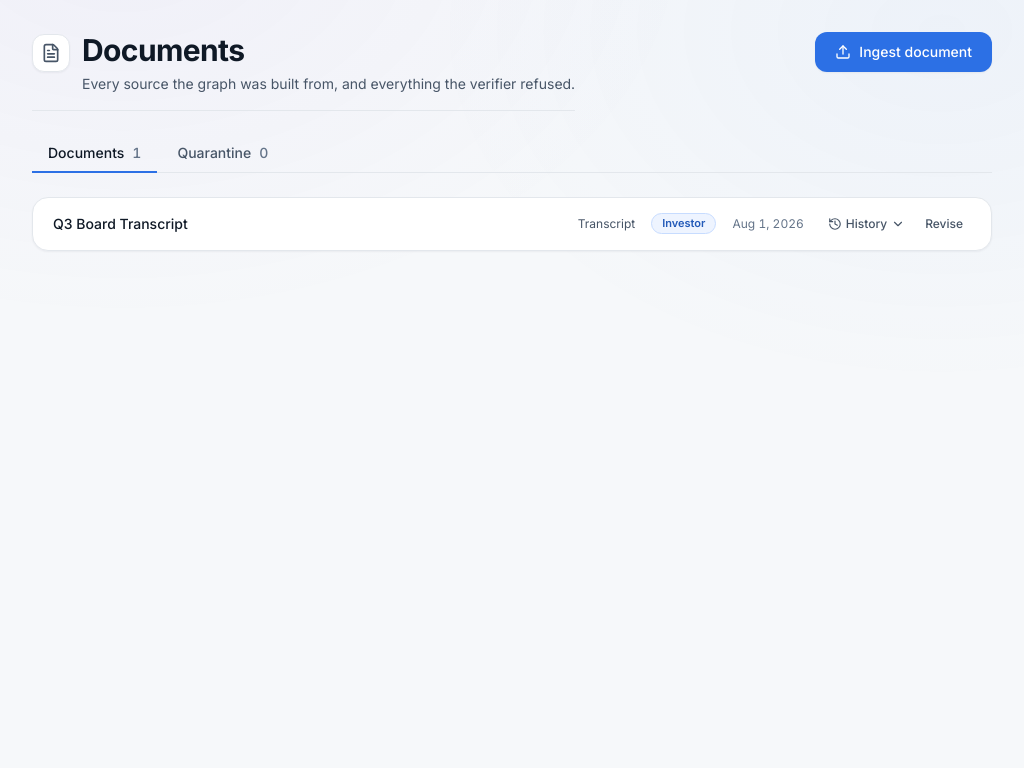
Scenario: the sensitivity control › pre-selects nothing
The width and height of the screenshot is (1024, 768).
Expected: the text "Q3 Board Transcript" is shown, [53,214,188,232]
Step 1. Click the button "Ingest document" → (904, 52), box [815,32,992,72]
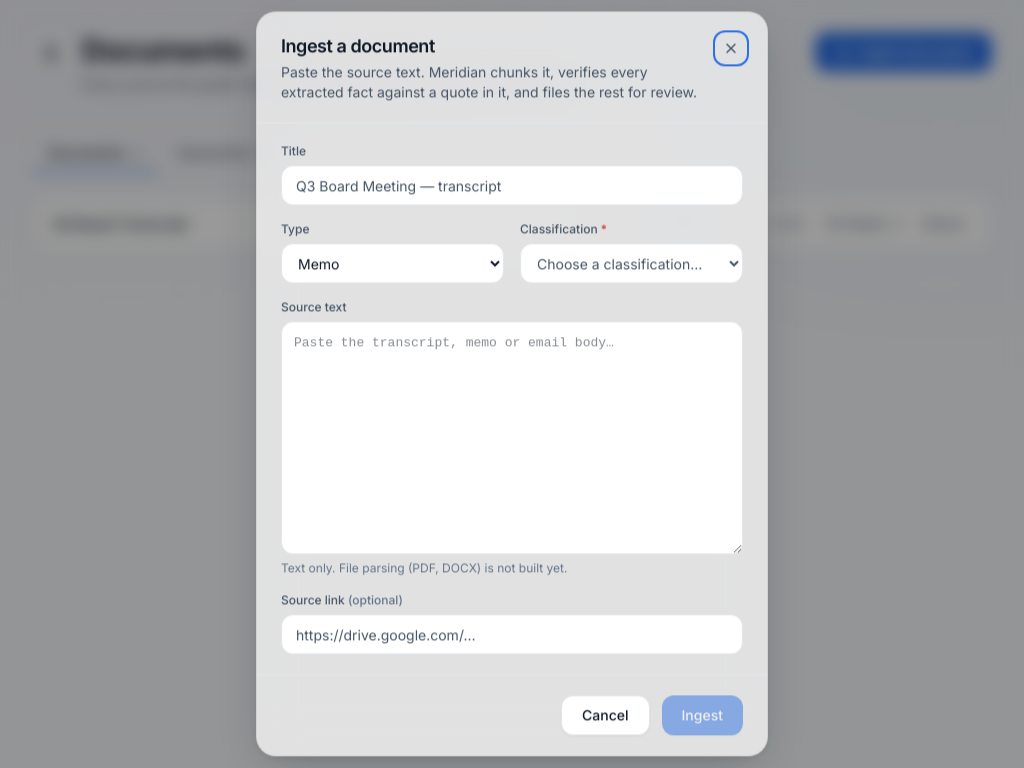
Result: the dropdown labelled "Classification *" shows "Choose a classification…" at [520,243,743,283]
